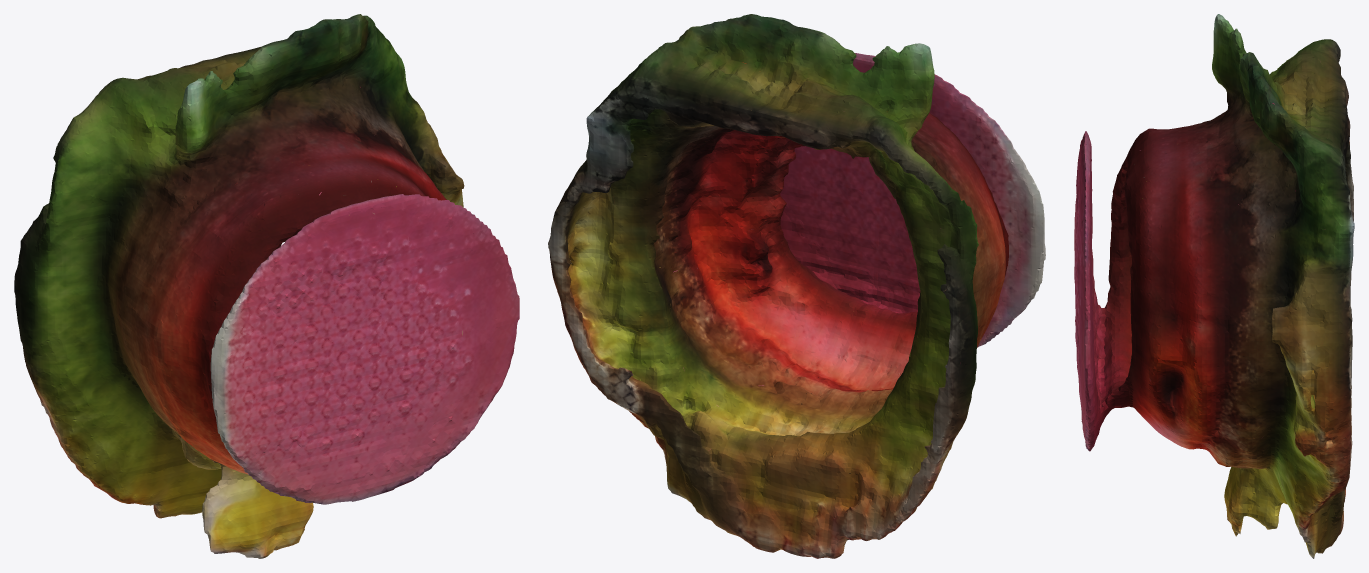
The model's file is images_overlay.obj.
The picture shows the model from 3 angles, left to right: view 1: azimuth 30°, elevation 25°; view 2: azimuth 150°, elevation 25°; view 3: azimuth 270°, elevation 25°; orthographic projection. The views are drawn at different scales.
Size of the model in its own units: 1.7 by 1.92 by 1.01.
1 material, 1 textured.
